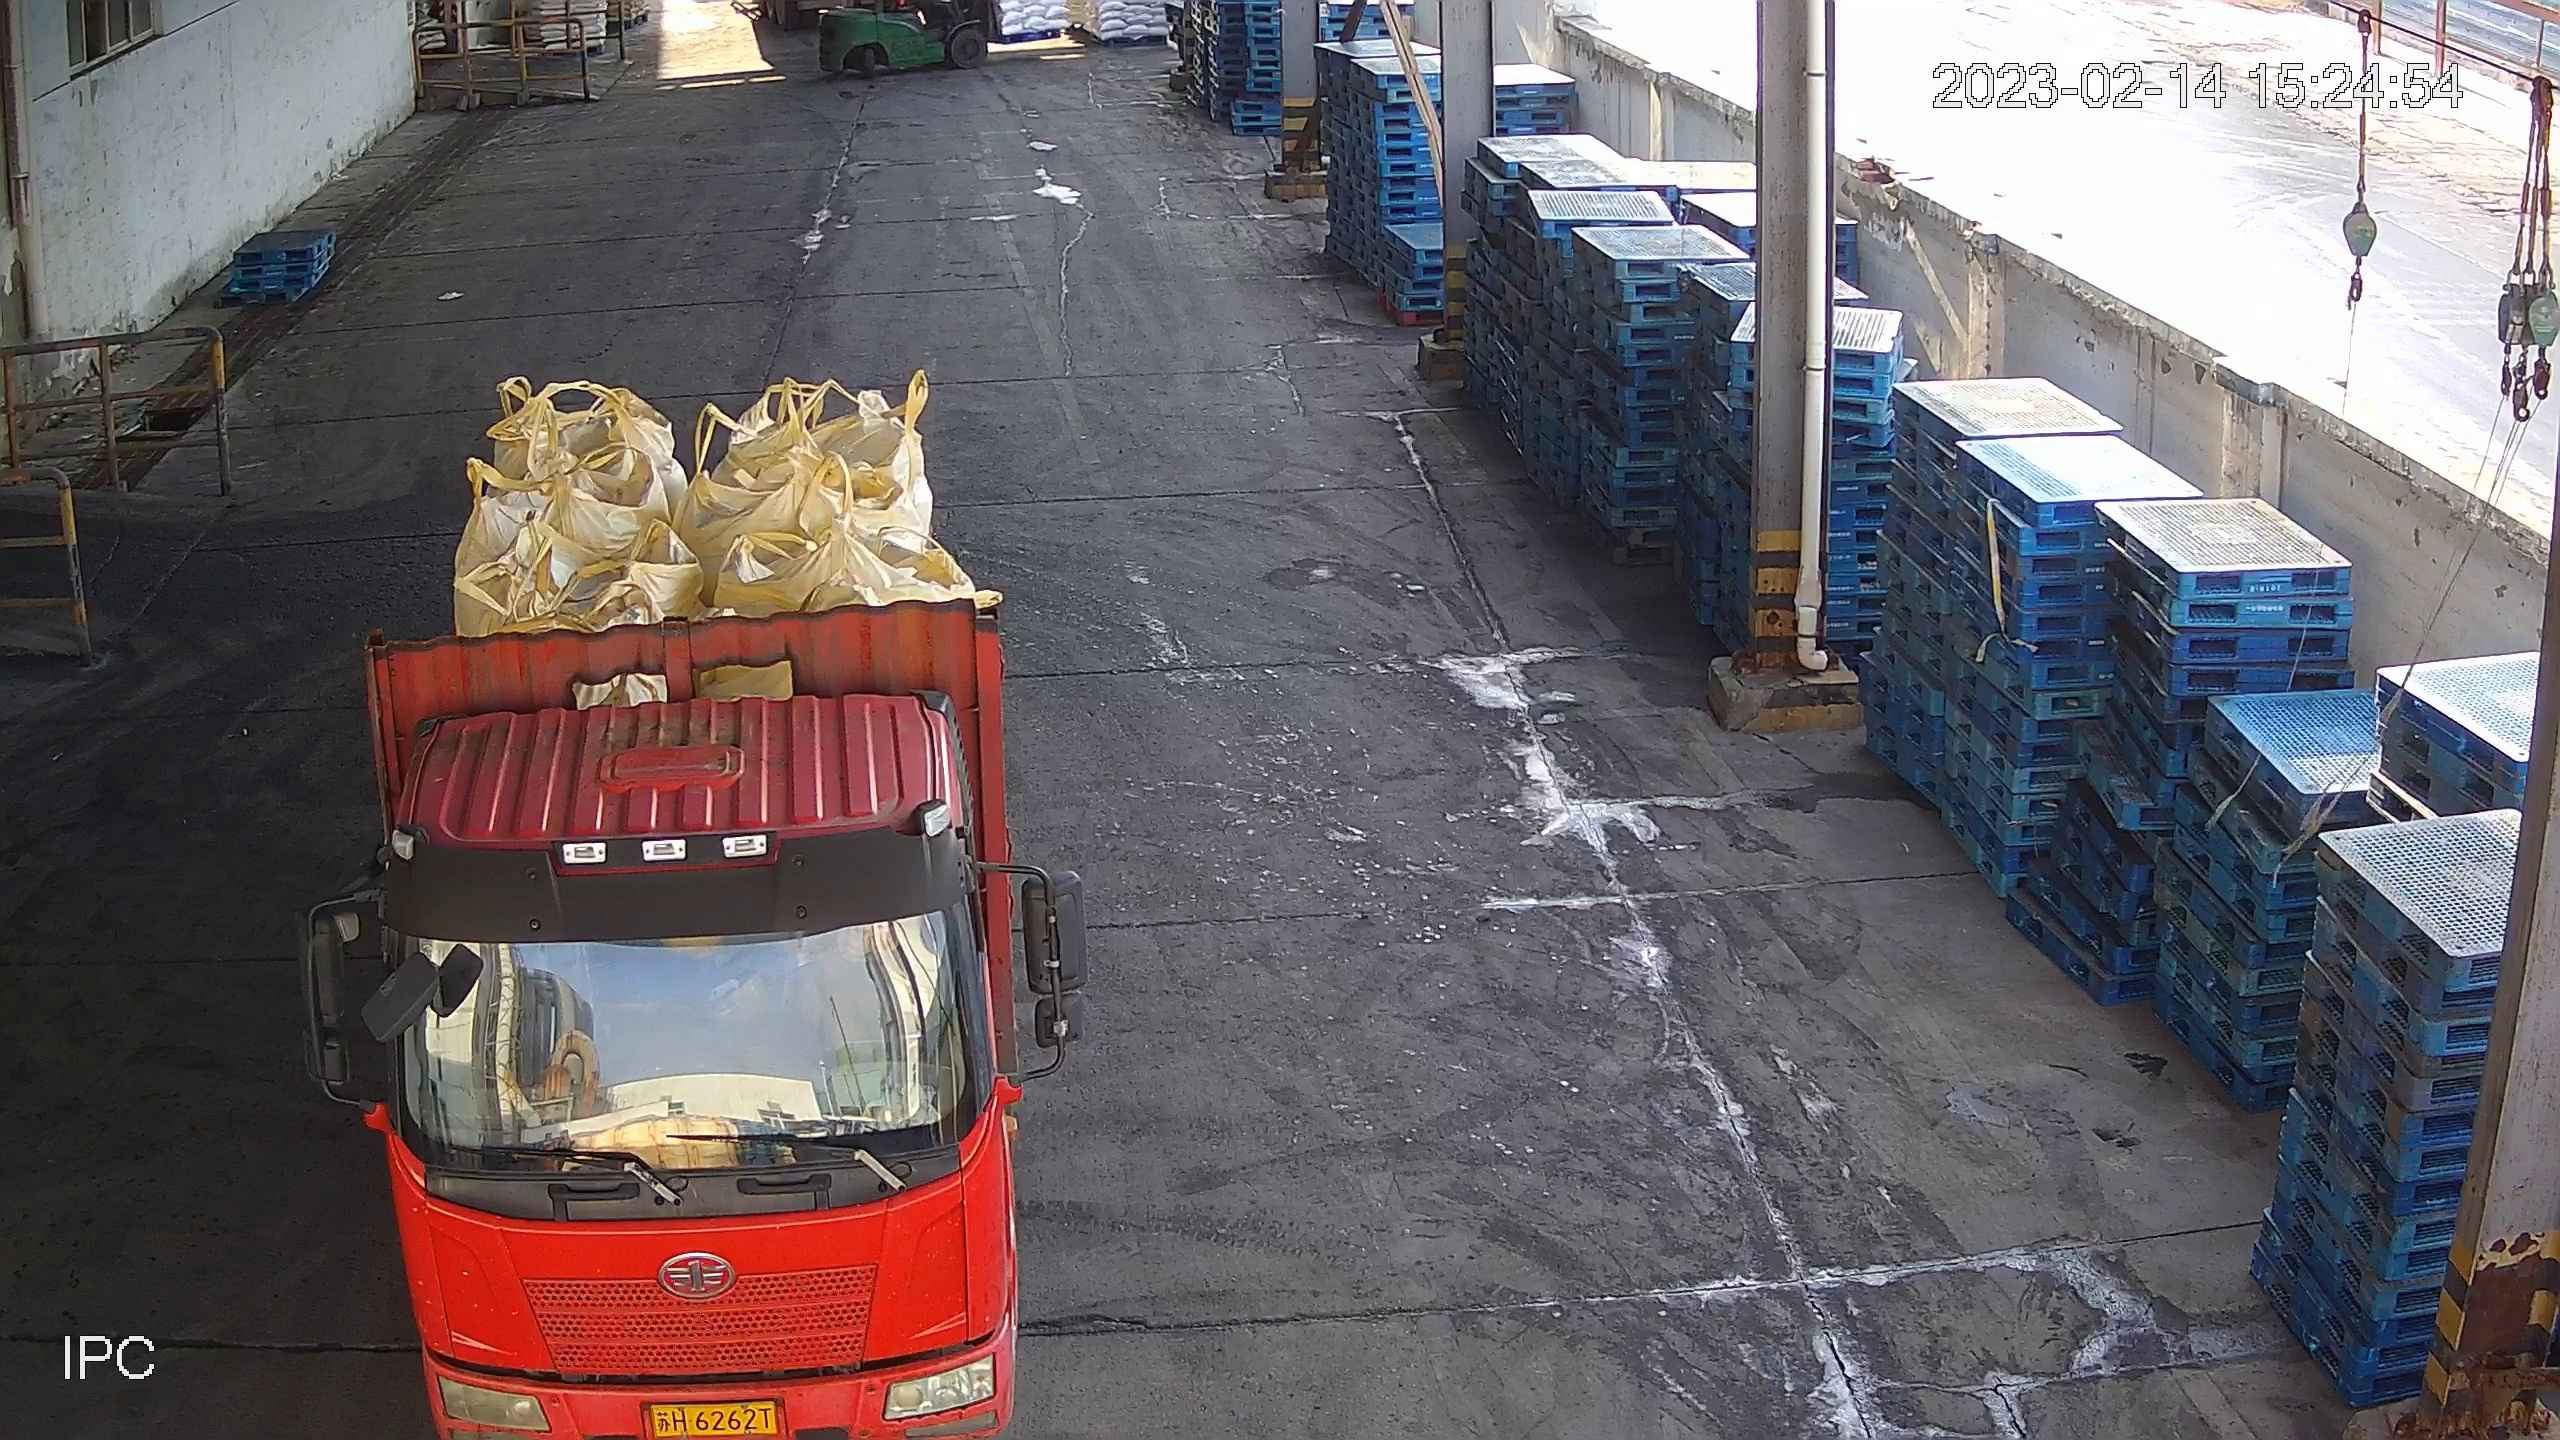truck: (304, 522, 1087, 1440)
